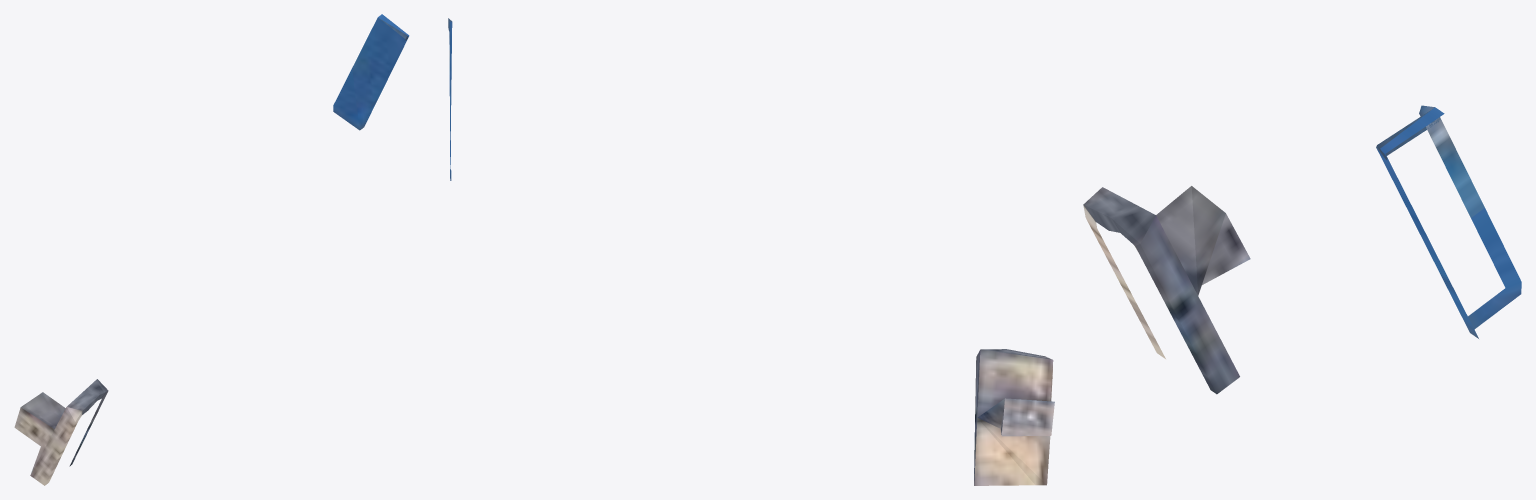
3 renders of one model, left to right at view 1: azimuth 30°, elevation 25°; view 2: azimuth 150°, elevation 25°; view 3: azimuth 270°, elevation 25°, orthographic. The views are drawn at different scales.
Bounding box in the file's own units: 104 × 72.7 × 44.84.
1 material, 1 textured.
